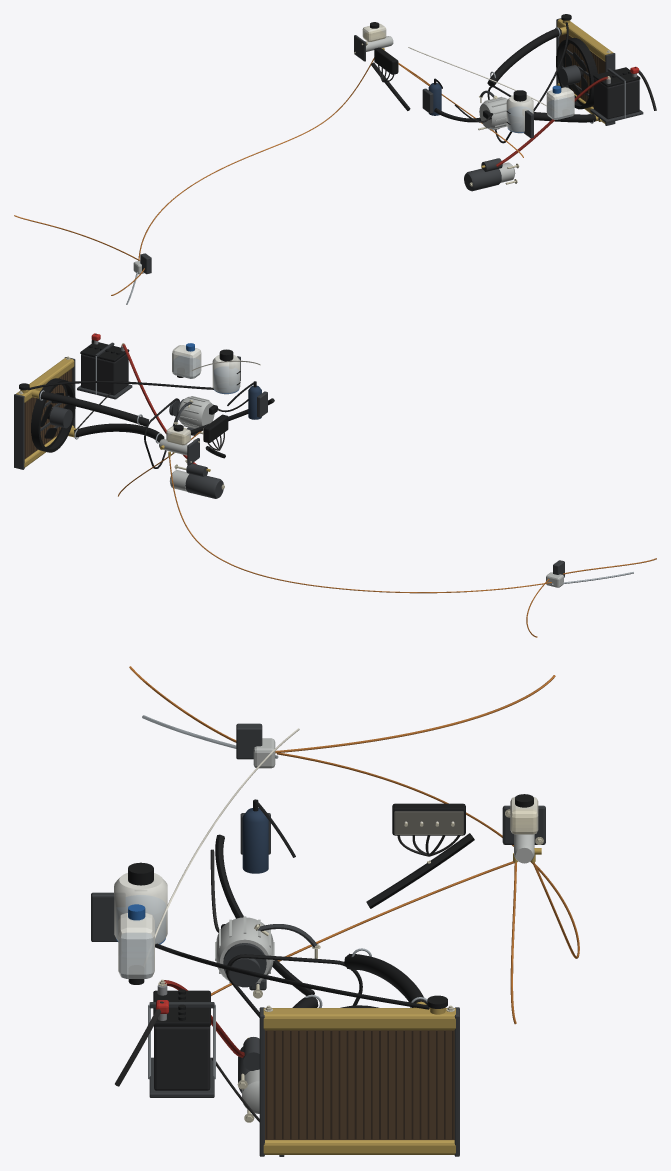
The model's file is equipements.glb.
3 views of the same model, one above another, from view 1: azimuth 30°, elevation 25°; view 2: azimuth 150°, elevation 25°; view 3: azimuth 270°, elevation 25° (orthographic). The views are drawn at different scales.
Visible parts, largest first — view 1: durites.caoutchouc, batterie.bac-batterie, motoventilateur.noir, demarreur.acier-noirci, radiateur.laiton, lave-glace.plastique-translucide, maitre-cylindre.cuivre, vase-expansion.plastique-translucide, alternateur.alu-coule, radiateur.faisceau-radiateur, motoventilateur.acier-noirci, batterie.noir (+1 smaller); view 2: durites.caoutchouc, motoventilateur.noir, batterie.bac-batterie, radiateur.laiton, radiateur.faisceau-radiateur, radiateur.acier-noirci, vase-expansion.plastique-translucide, demarreur.acier-noirci, maitre-cylindre.cuivre, alternateur.alu-coule, lave-glace.plastique-translucide, radiateur.ailette (+3 smaller); view 3: radiateur.faisceau-radiateur, radiateur.laiton, radiateur.ailette, durites.caoutchouc, batterie.bac-batterie, maitre-cylindre.cuivre, fusibles.noir, lave-glace.plastique-translucide, vase-expansion.plastique-translucide, alternateur.alu-coule, radiateur.acier-noirci, alternateur.acier-noirci (+10 smaller).
Part boxes in pixels (<box>): durites.caoutchouc: <box>371,22,596,122</box>; batterie.bac-batterie: <box>594,78,639,119</box>; motoventilateur.noir: <box>556,37,597,109</box>; demarreur.acier-noirci: <box>464,158,502,191</box>; radiateur.laiton: <box>557,19,613,123</box>; lave-glace.plastique-translucide: <box>546,87,574,119</box>; maitre-cylindre.cuivre: <box>138,57,523,260</box>; vase-expansion.plastique-translucide: <box>506,95,533,133</box>; alternateur.alu-coule: <box>479,96,507,129</box>; radiateur.faisceau-radiateur: <box>560,34,605,107</box>; motoventilateur.acier-noirci: <box>559,49,589,96</box>; batterie.noir: <box>593,67,640,87</box>; durites.caoutchouc: <box>28,381,274,458</box>; motoventilateur.noir: <box>31,378,75,452</box>; batterie.bac-batterie: <box>81,354,128,395</box>; radiateur.laiton: <box>16,357,74,467</box>; radiateur.faisceau-radiateur: <box>24,369,71,458</box>; radiateur.acier-noirci: <box>14,357,75,469</box>; vase-expansion.plastique-translucide: <box>212,355,240,394</box>; demarreur.acier-noirci: <box>185,463,223,498</box>; maitre-cylindre.cuivre: <box>118,431,551,593</box>; alternateur.alu-coule: <box>178,396,214,428</box>; lave-glace.plastique-translucide: <box>172,345,201,378</box>; radiateur.ailette: <box>25,368,72,458</box>; radiateur.faisceau-radiateur: <box>265,1030,454,1139</box>; radiateur.laiton: <box>263,1001,455,1154</box>; radiateur.ailette: <box>265,1030,453,1139</box>; durites.caoutchouc: <box>155,833,474,1009</box>; batterie.bac-batterie: <box>154,1026,210,1090</box>; maitre-cylindre.cuivre: <box>211,753,579,1024</box>; fusibles.noir: <box>392,803,465,835</box>; lave-glace.plastique-translucide: <box>118,913,154,978</box>; vase-expansion.plastique-translucide: <box>114,873,167,944</box>; alternateur.alu-coule: <box>215,916,274,983</box>; radiateur.acier-noirci: <box>259,1007,459,1156</box>; alternateur.acier-noirci: <box>223,924,317,990</box>.
Size of the model in its own units: 2.89 by 0.774 by 1.13.
